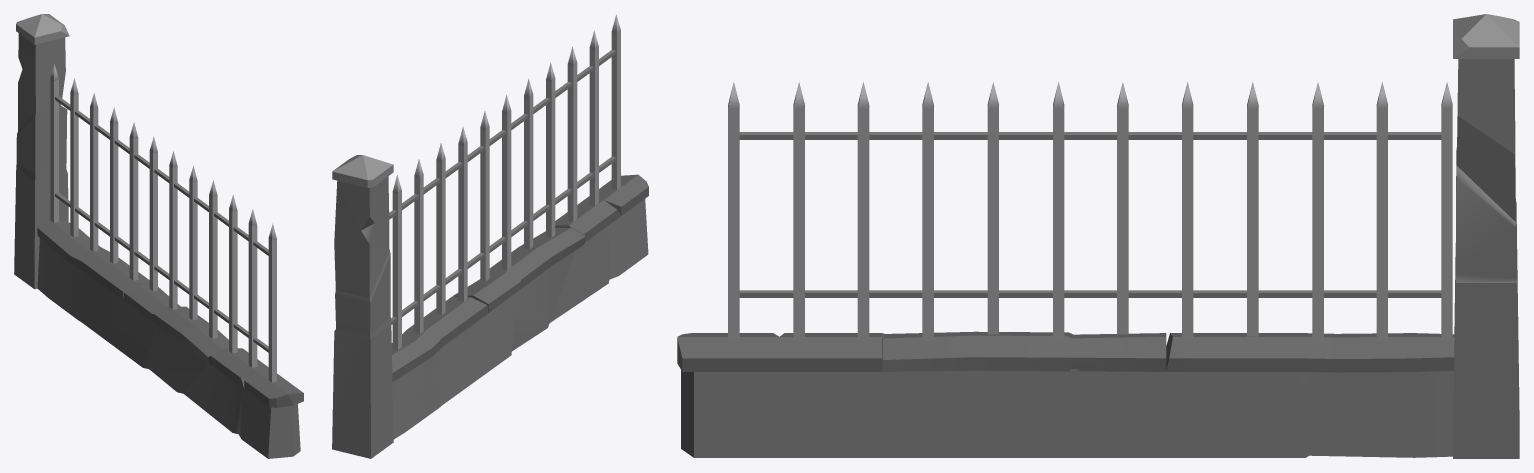
The model's file is iron_wall.fbx.
The picture shows the model from 3 angles, left to right: view 1: azimuth 30°, elevation 25°; view 2: azimuth 150°, elevation 25°; view 3: azimuth 270°, elevation 25°; orthographic projection. The views are drawn at different scales.
Visible parts, largest first — view 1: Combined_Mesh1; view 2: Combined_Mesh1; view 3: Combined_Mesh1.
Boxes of the visible parts, x1=… form: Combined_Mesh1: x1=14, y1=14, x2=303, y2=458; Combined_Mesh1: x1=332, y1=14, x2=648, y2=458; Combined_Mesh1: x1=677, y1=14, x2=1519, y2=458.
Size of the model in its own units: 11.47 by 81.67 by 145.
